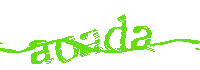a: (29, 36, 52, 66), (80, 30, 100, 58), (132, 24, 152, 52)
d: (104, 13, 128, 54)
o: (53, 33, 78, 62)
